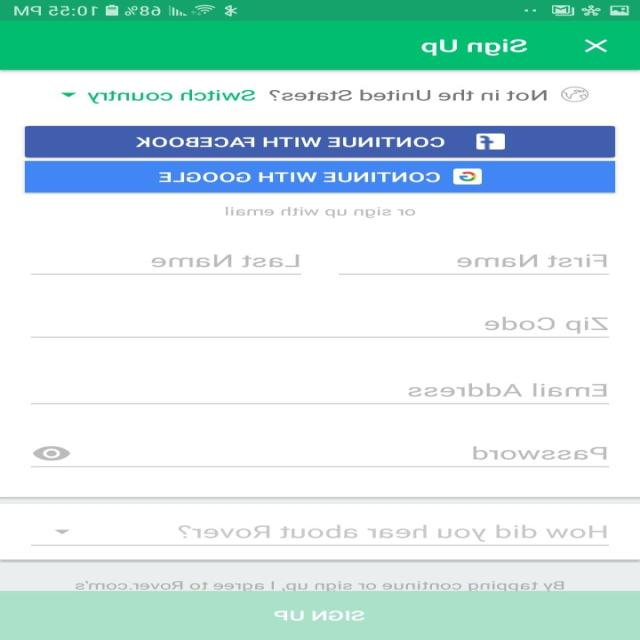EditText: (31, 382, 610, 404), (32, 524, 610, 546), (31, 446, 610, 467), (31, 316, 610, 337), (338, 254, 610, 275), (32, 254, 302, 275)
Icon: (33, 446, 72, 460), (477, 132, 507, 150), (584, 39, 608, 53), (55, 528, 71, 534), (62, 92, 78, 97)
Image: (560, 86, 590, 102)
Text: (178, 524, 608, 542), (88, 89, 548, 104), (76, 580, 564, 590), (408, 382, 607, 397), (226, 206, 416, 218), (486, 316, 608, 334), (458, 255, 608, 268), (151, 254, 300, 267), (421, 38, 528, 56), (472, 446, 606, 460)
TextButton: (1, 590, 640, 640), (25, 126, 616, 158), (25, 160, 616, 192)
